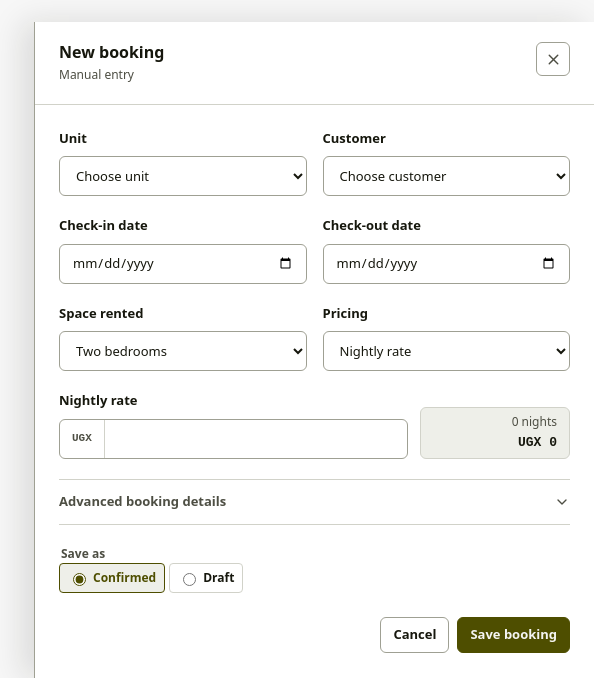
Test: BookingEditor › calculates checkout-exclusive nights and total live
Select "Lake View" in the dropdown labelled "Unit" at (183, 176), box [59,156,306,196]
Select "Amina N. · +256 700 123456" in the dropdown labelled "Customer" at (446, 176), box [322,156,570,196]
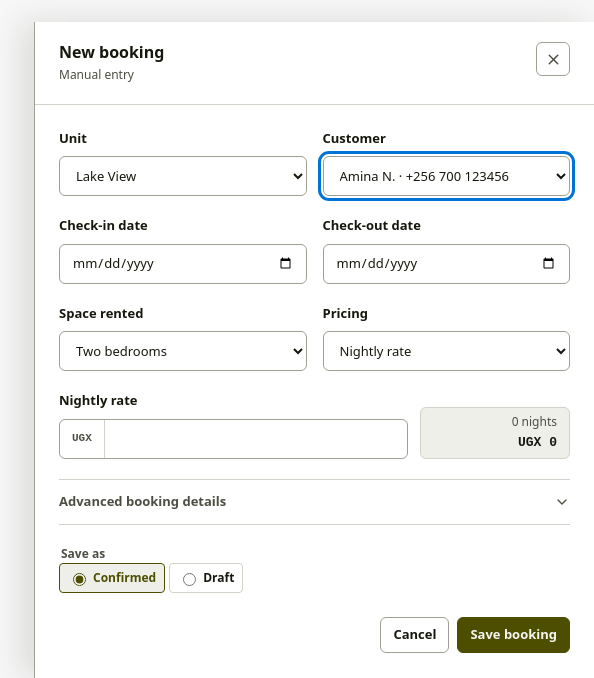
Type "2026-07-10" into the date field labelled "Check-in date".
click(183, 264); type("2026-07-10")  # box [59,244,306,284]
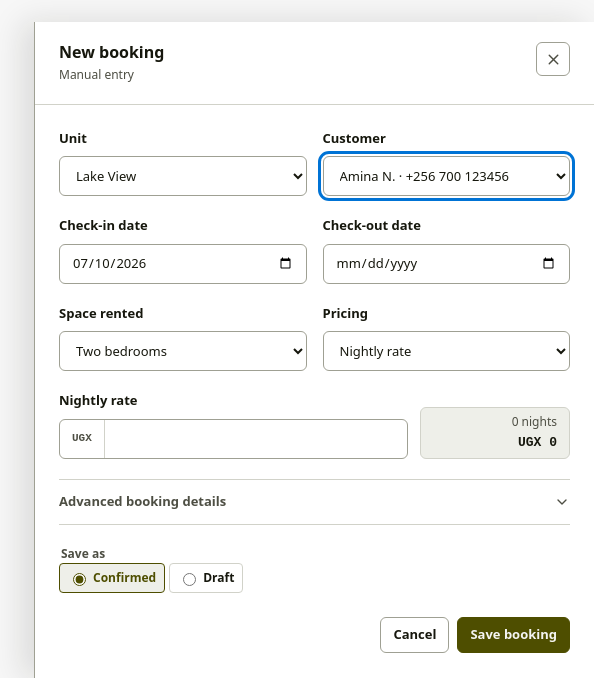
Type "2026-07-13" into the date field labelled "Check-out date".
click(446, 264); type("2026-07-13")  # box [322,244,570,284]
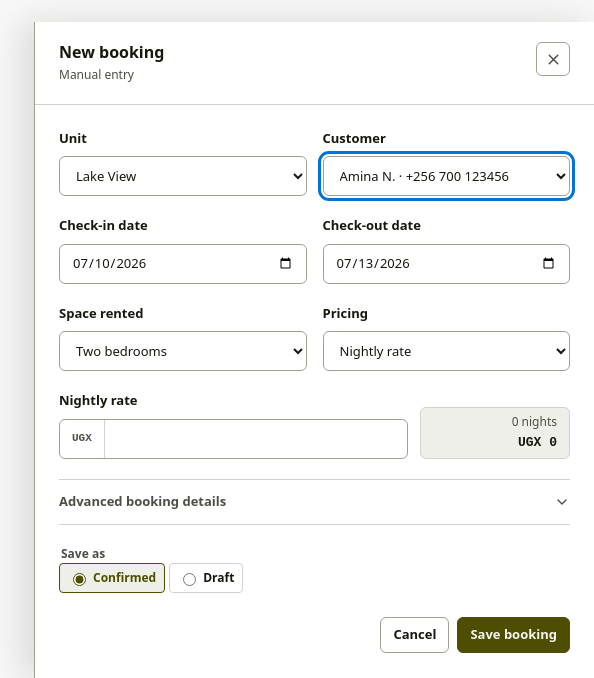
Type "180000" into the number field labelled "Nightly rate".
click(255, 439); type("180000")  # box [104,420,407,458]
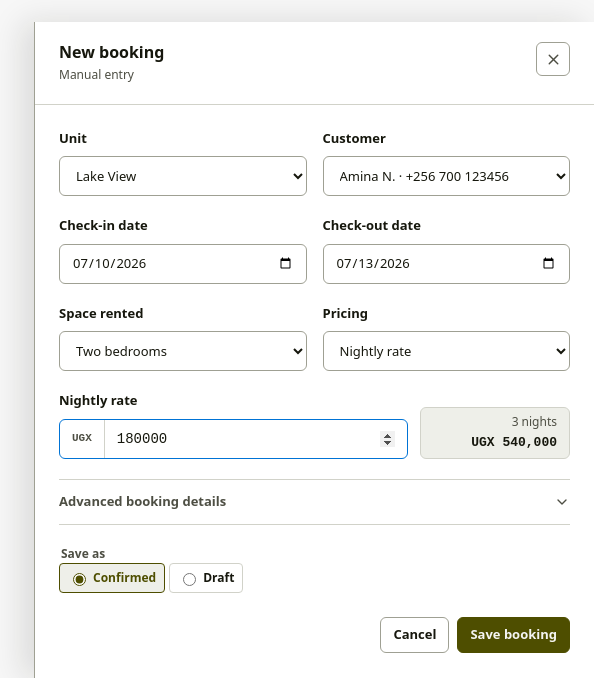
Click the heading "Advanced booking details".
click(143, 501)  # box [59,492,570,510]
(page scrolled)
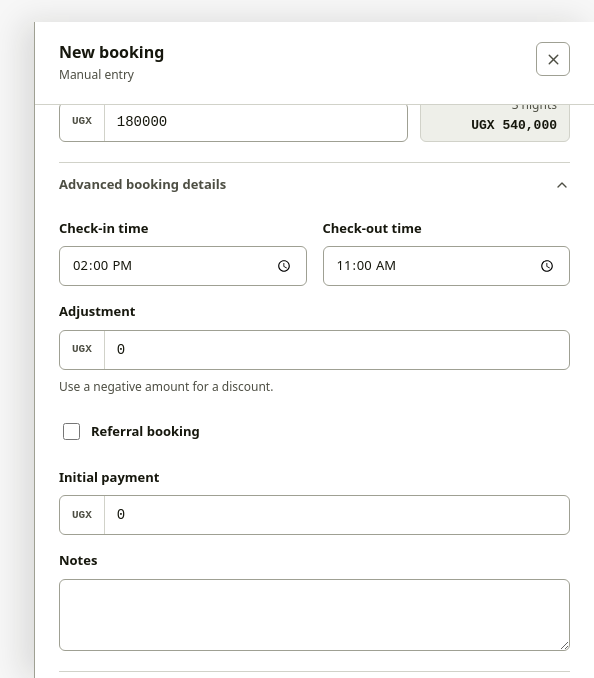
Replace the text in the number field labelled "Adjustment" with "-20000" at (336, 350), box [104,331,569,369]
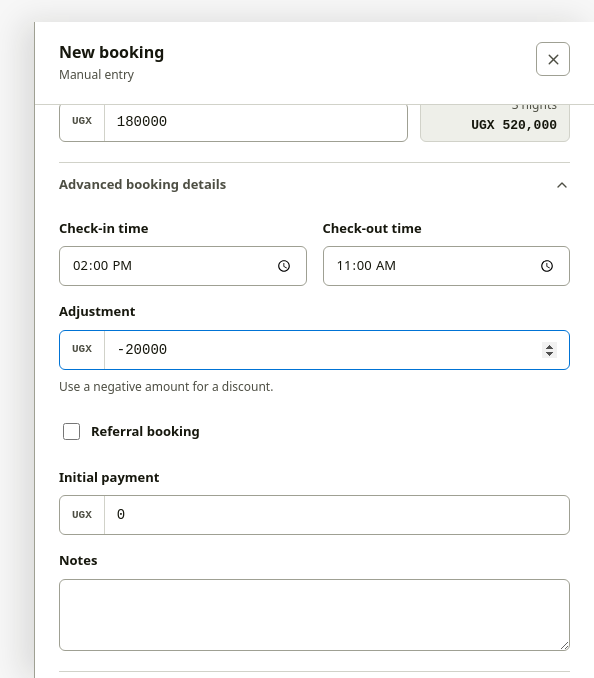
Check: the text "3 nights" is shown, box [512,96,557,114]
Check: the text "UGX 520,000" is shown, box [471,116,557,135]
